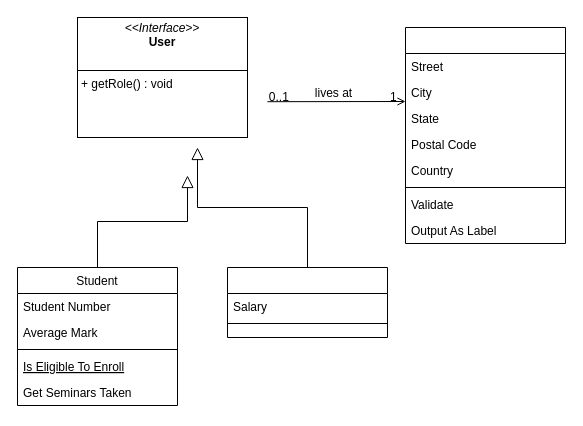
This 583x426 diagram has some shape labels left out. Here are the shapes that lost their labels. From the top down, the box of each, then its label:
(404, 26, 566, 244): Admin
(226, 266, 388, 338): Professor
